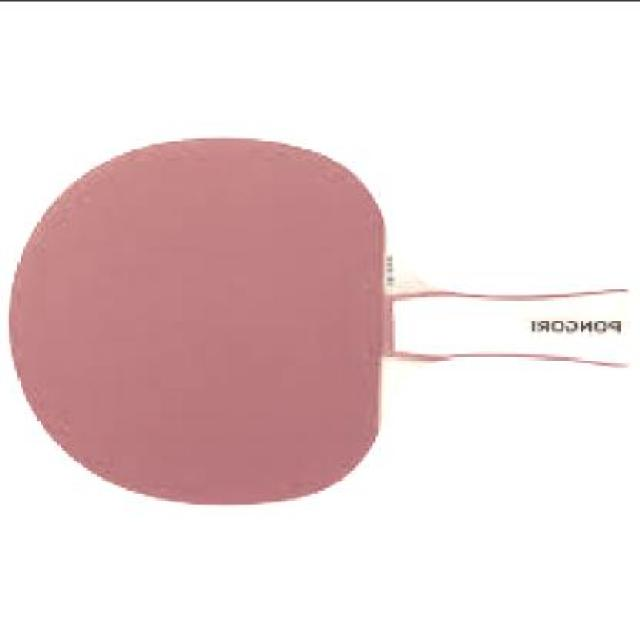table_tennis_racket: (2, 130, 427, 511)
